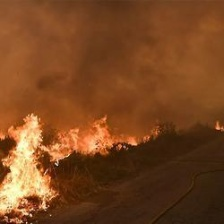fire: (1, 108, 179, 222)
smoke: (34, 8, 186, 109)
